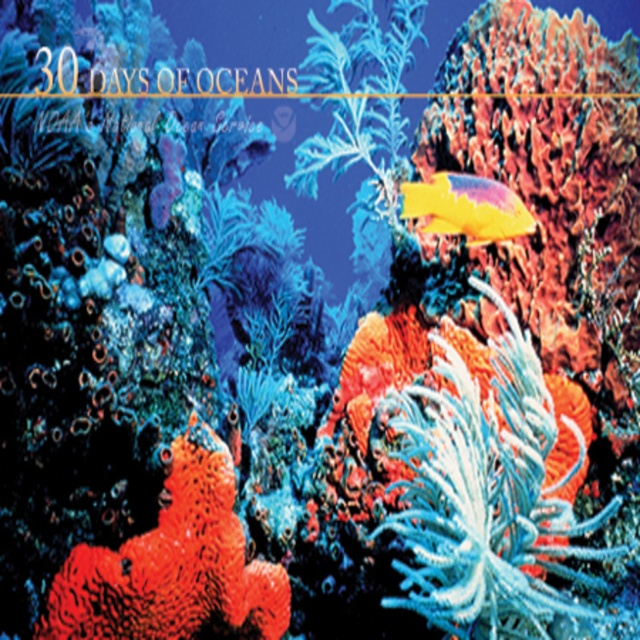Fish: (395, 158, 543, 250)
